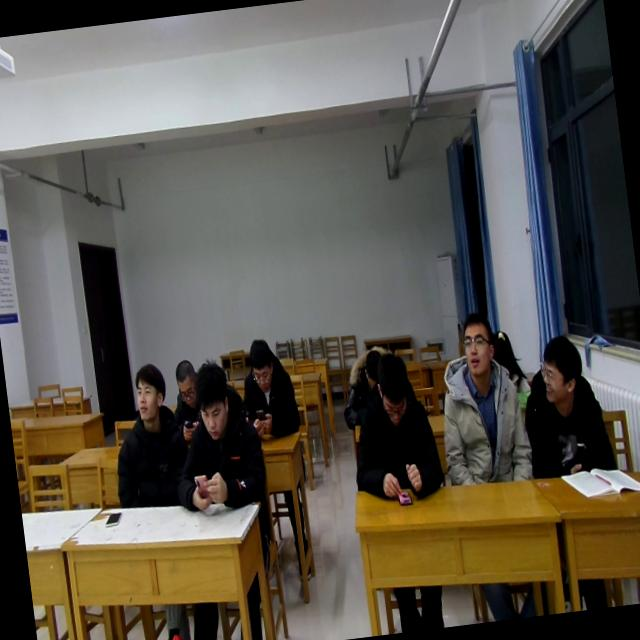bow: (235, 334, 303, 442), (334, 342, 401, 429), (489, 324, 534, 412), (164, 356, 206, 444)
down: (191, 348, 238, 441), (371, 346, 416, 430), (242, 332, 282, 398), (168, 352, 200, 407), (487, 320, 514, 368), (356, 347, 386, 390)
lookup: (450, 306, 500, 384), (126, 358, 173, 427)
sit: (428, 306, 534, 489), (160, 354, 271, 512), (340, 344, 446, 505), (511, 330, 618, 482), (101, 358, 195, 516)
